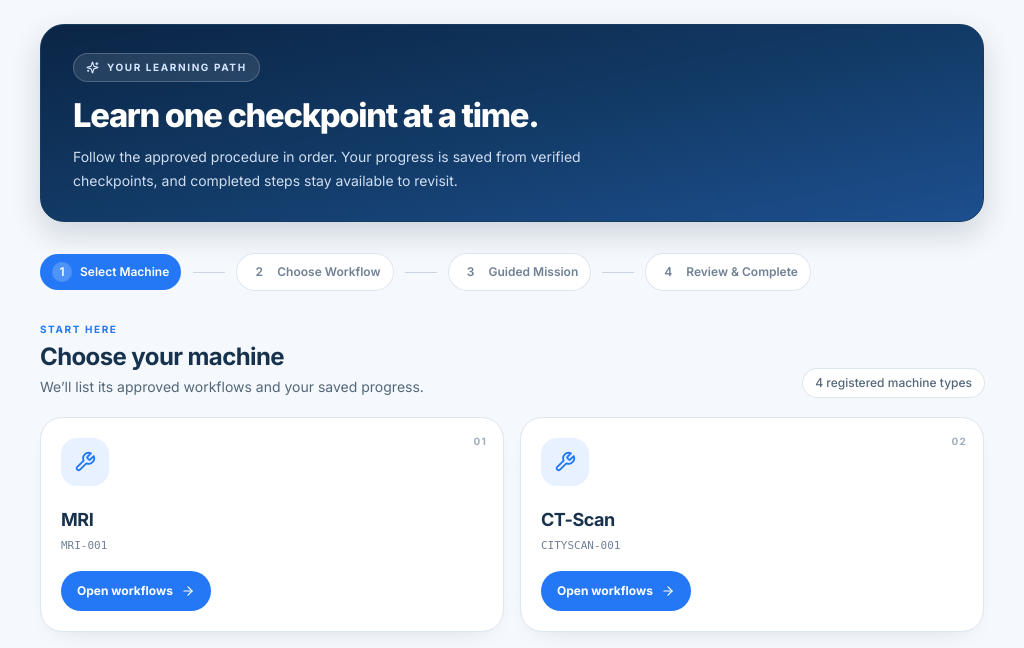
Test: Guided Workflow › offers only the four supported machine choices and links to procedure creation when none are approved
Expected: the button "02 CT-Scan CITYSCAN-001 Open workflows" is shown, [520, 417, 984, 632]
Click the button "01 MRI MRI-001 Open workflows" at (85, 462), box [40, 417, 504, 632]
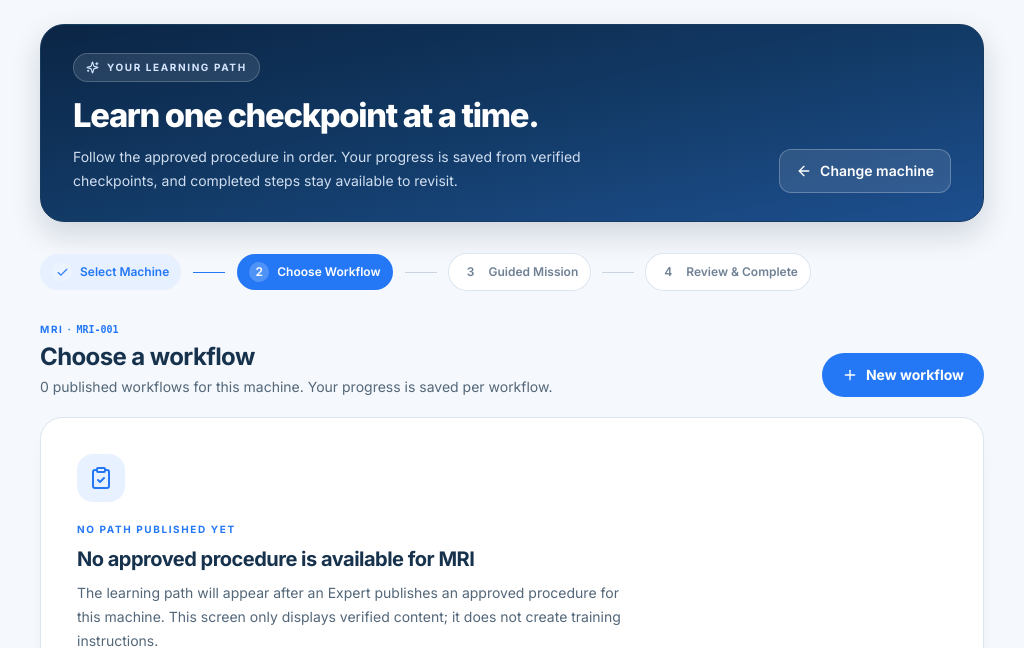
Now the heading "No approved procedure is available for MRI" is shown, box [77, 547, 474, 571]
